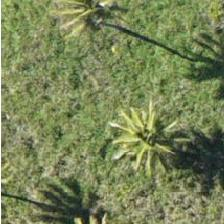coconut_tree: (111, 95, 201, 185), (38, 0, 128, 51)
